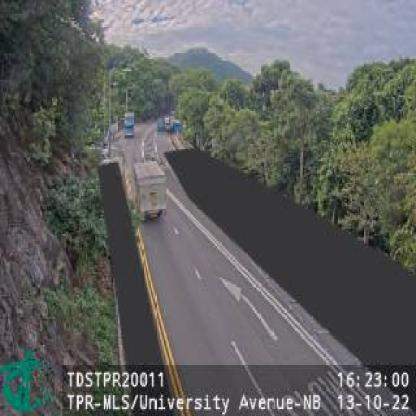Bus: (123, 113, 136, 140)
Truck: (128, 160, 165, 220)
